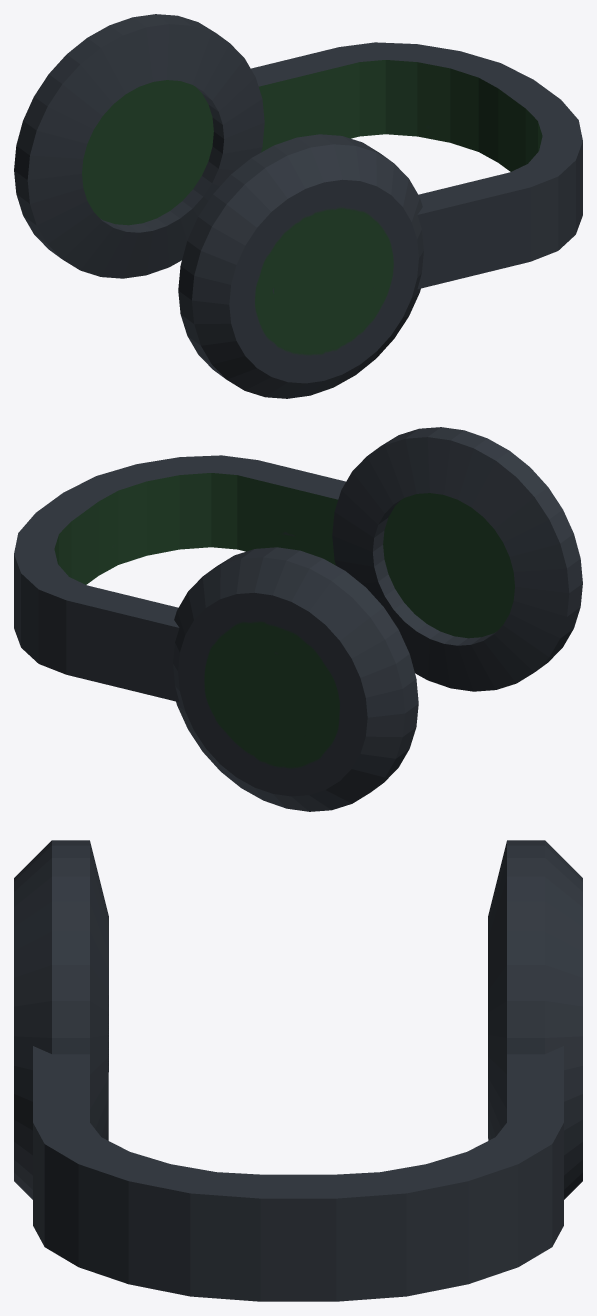
File: Communication-headphone.glb
3 renders of one model, top to bottom at view 1: azimuth 30°, elevation 25°; view 2: azimuth 150°, elevation 25°; view 3: azimuth 270°, elevation 25°, orthographic. The views are drawn at different scales.
Visible parts, largest first — view 1: Cube.003; view 2: Cube.003; view 3: Cube.003.
Boxes of the visible parts, bbox=[...] form: Cube.003: bbox=[14, 14, 582, 398]; Cube.003: bbox=[14, 427, 582, 811]; Cube.003: bbox=[14, 840, 582, 1301].
Size of the model in its own units: 3.75 by 2 by 3.
1 material, 1 textured.
